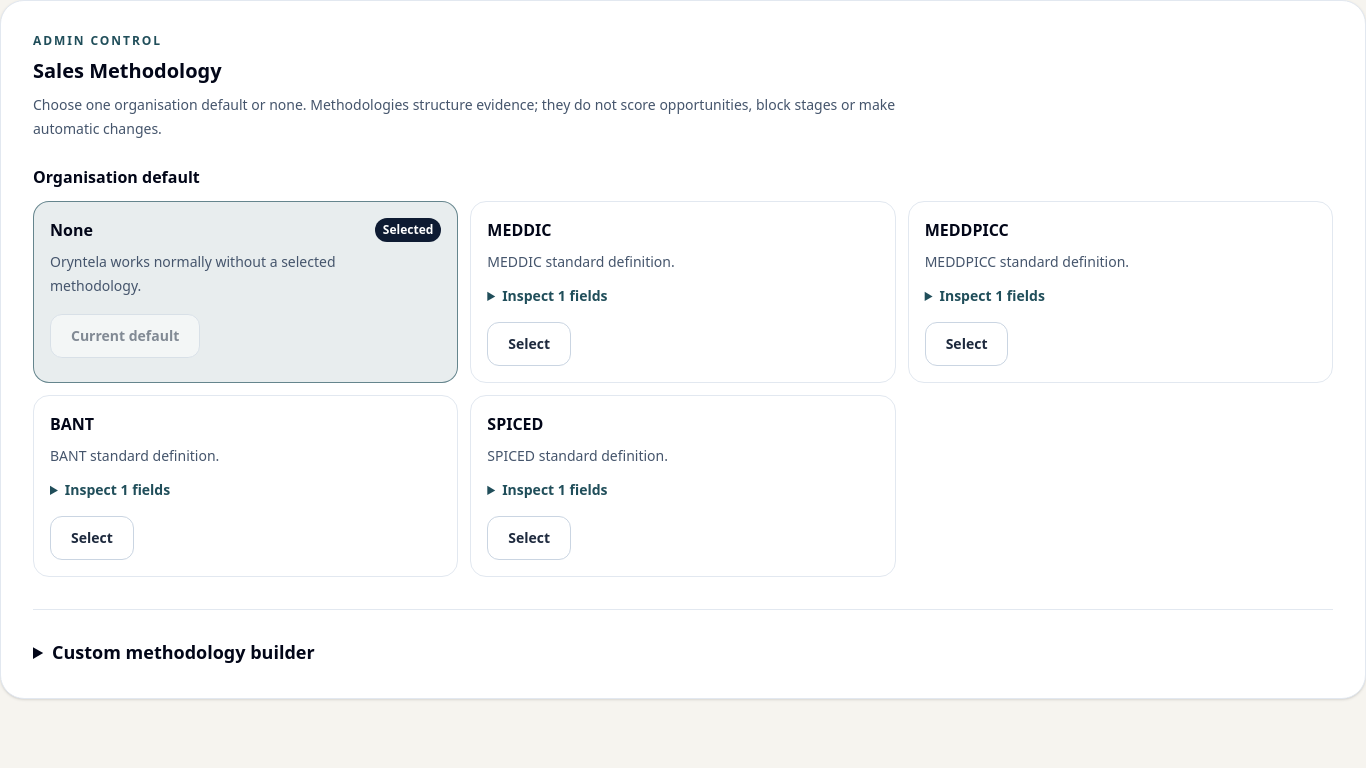
SalesMethodologySettings › selects an organisation default while explaining the safe boundaries
The width and height of the screenshot is (1366, 768).
Check: the heading "Sales Methodology" is shown, box [33,57,222,84]
Check: the text "do not score opportunities, block stages or make automatic changes" is shown, box [33,95,895,138]
Click the button "Select" below "MEDDPICC standard definition.": (967, 344) [925,322,1008,366]
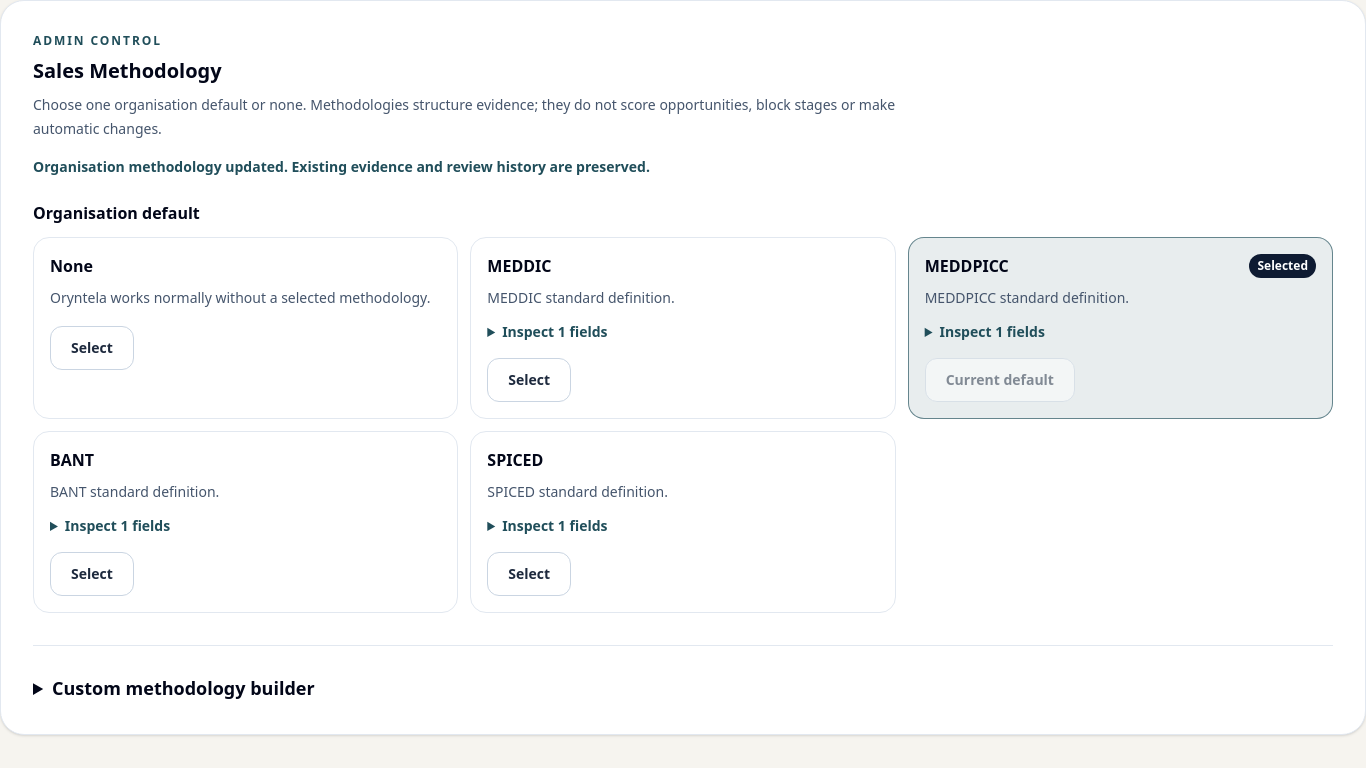
Check: the text "Existing evidence and review history are preserved" is shown, box [33,157,650,176]
